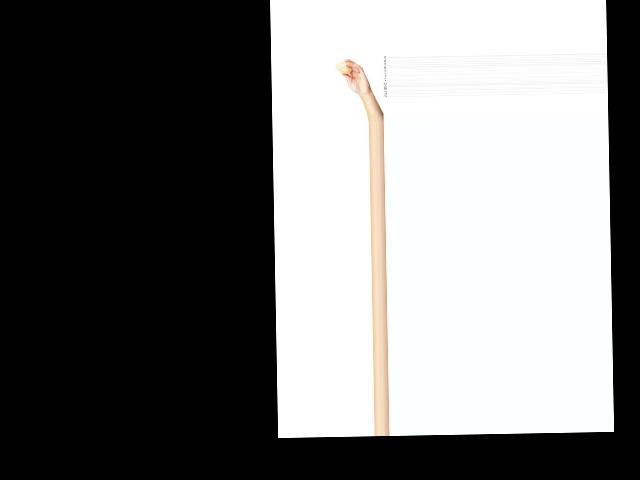egg: (335, 61, 353, 74)
